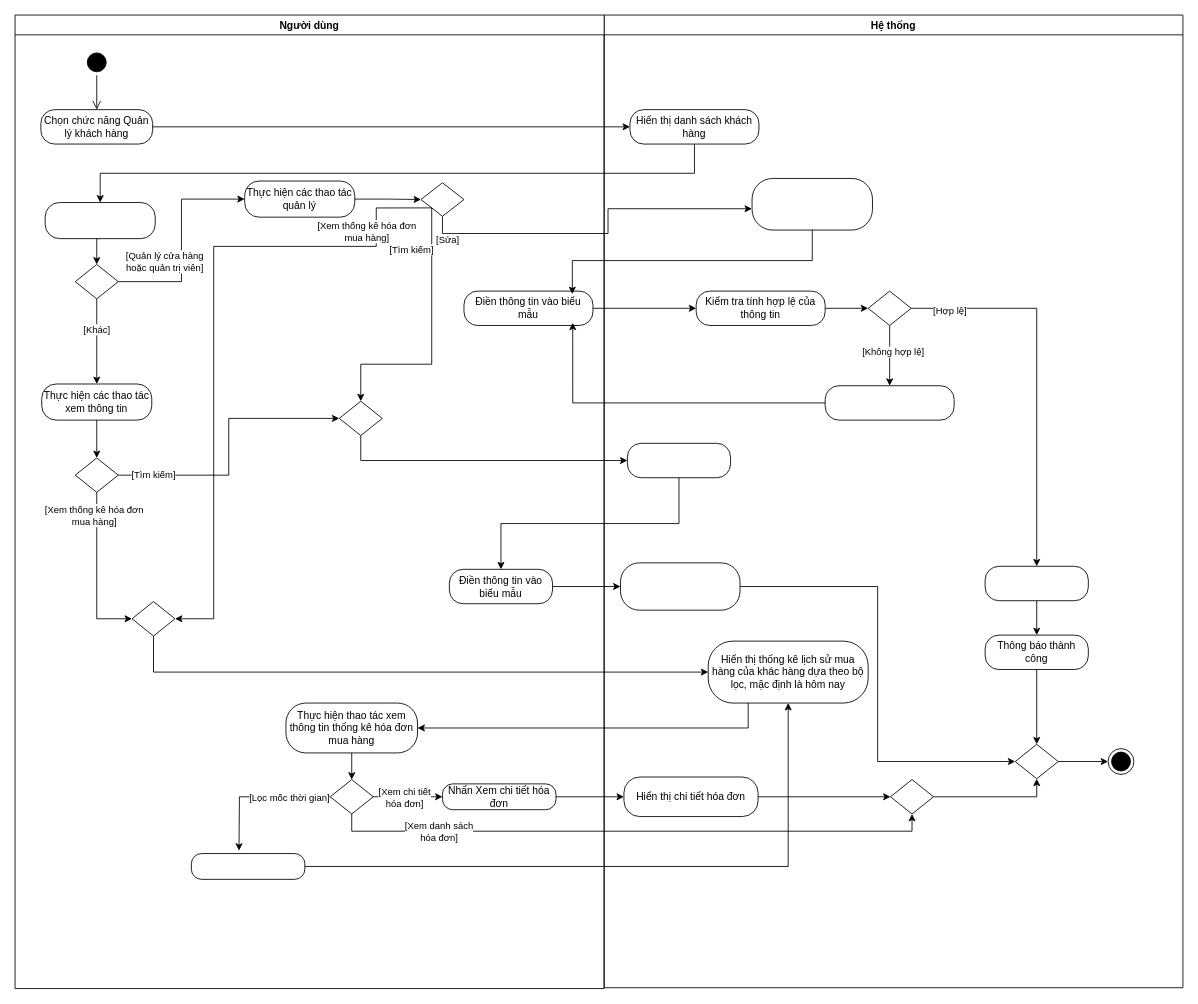
This 1198x1004 diagram has some shape labels left out. The centre of each missing label's shape, as x and y in pixels:
Chọn mốc từ ngày nào đến ngày nào: pixel 247 866
Hiển thị biểu mẫu gồm thông tin khách hàng: pixel 811 204
Hiển thị biểu mẫu thông tin trống: pixel 679 460
Hiển thị danh sách khách hàng dựa trên thông tin tìm kiếm: pixel 680 586
Kiểm tra chức vụ: pixel 99 220
Thông báo thông tin không hợp lệ: pixel 889 402
Xử lý thao tác: pixel 1036 583
